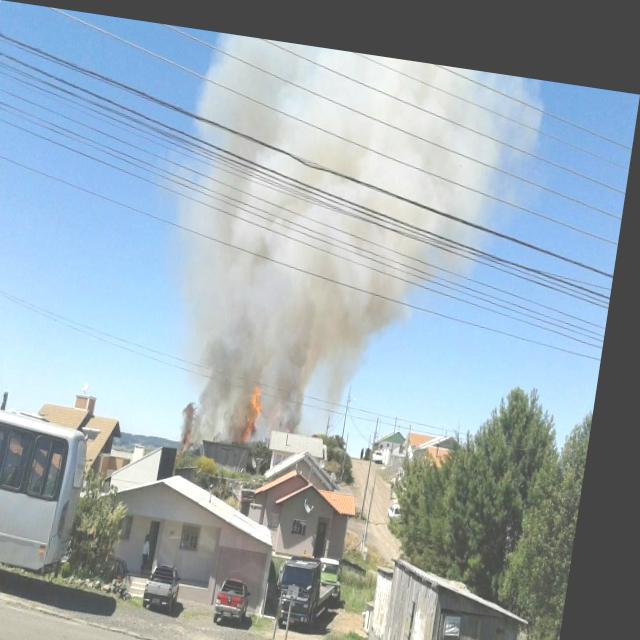Fire: (248, 363, 280, 441)
